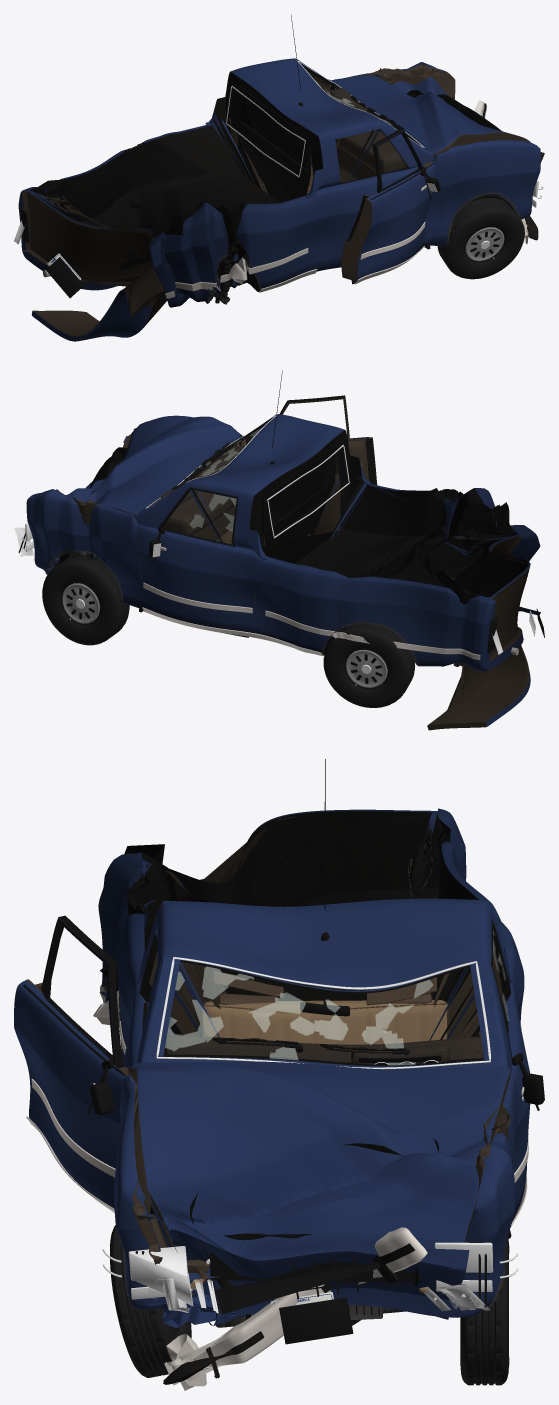
Rendered from pickup87_rear_corner_R_d3.glb.
3 renders of one model, top to bottom at view 1: azimuth 30°, elevation 25°; view 2: azimuth 150°, elevation 25°; view 3: azimuth 270°, elevation 25°, orthographic. The views are drawn at different scales.
Visible parts, largest first — view 1: Body, Door_FR, Hood, Wheel_FR_mesh, Tailgate, Interior, Trim, Ends, Trim_FR, Glass, Bumper_F; view 2: Body, Door_FL, Hood, Wheel_FL_mesh, Wheel_RL_mesh, Tailgate, Interior, Trim, Trim_FL, Glass, Door_FR, Ends (+1 smaller); view 3: Body, Hood, Interior, Door_FR, Ends, Glass, Bumper_F, Wheel_FR_mesh, Wheel_FL_mesh, Trim_FR, Door_FL, Trim (+1 smaller).
Part boxes in pixels (bbox=[...]): Body: bbox=[18, 58, 544, 307]; Door_FR: bbox=[341, 129, 435, 281]; Hood: bbox=[331, 75, 530, 158]; Wheel_FR_mesh: bbox=[437, 198, 524, 279]; Tailgate: bbox=[31, 264, 167, 341]; Interior: bbox=[307, 88, 405, 193]; Trim: bbox=[165, 14, 521, 303]; Ends: bbox=[14, 181, 543, 298]; Trim_FR: bbox=[351, 130, 440, 284]; Glass: bbox=[226, 60, 424, 177]; Bumper_F: bbox=[474, 100, 538, 243]; Body: bbox=[26, 414, 540, 671]; Door_FL: bbox=[137, 487, 256, 633]; Hood: bbox=[65, 415, 242, 557]; Wheel_FL_mesh: bbox=[42, 555, 129, 645]; Wheel_RL_mesh: bbox=[323, 624, 415, 707]; Tailgate: bbox=[427, 577, 540, 730]; Interior: bbox=[160, 446, 244, 544]; Trim: bbox=[45, 370, 480, 666]; Trim_FL: bbox=[142, 487, 255, 637]; Glass: bbox=[145, 415, 349, 538]; Door_FR: bbox=[280, 395, 377, 485]; Ends: bbox=[15, 478, 544, 654]; Body: bbox=[98, 808, 524, 1327]; Hood: bbox=[128, 1061, 510, 1319]; Interior: bbox=[164, 970, 483, 1064]; Door_FR: bbox=[14, 915, 128, 1208]; Ends: bbox=[102, 1233, 518, 1344]; Glass: bbox=[156, 957, 490, 1069]; Bumper_F: bbox=[163, 1227, 427, 1390]; Wheel_FR_mesh: bbox=[110, 1225, 191, 1377]; Wheel_FL_mesh: bbox=[460, 1236, 509, 1385]; Trim_FR: bbox=[23, 918, 126, 1212]; Door_FL: bbox=[480, 919, 530, 1220]; Trim: bbox=[93, 759, 521, 1316].
Bounding box in the file's own units: 4.82 × 2.76 × 2.56.
Materials: 33 (5 with a texture image).
